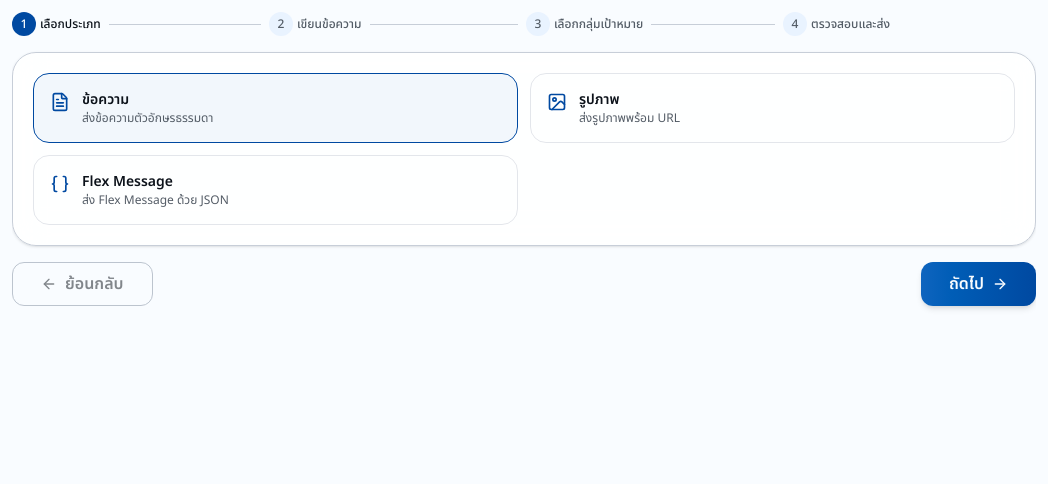
Test: BroadcastWizardClient ตัวช่วยสร้าง 4 ขั้น › ขั้นตรวจสอบแสดง preview + dry-run ก่อนสร้าง
Click the button "ถัดไป" at (978, 284), box [921,262,1036,306]
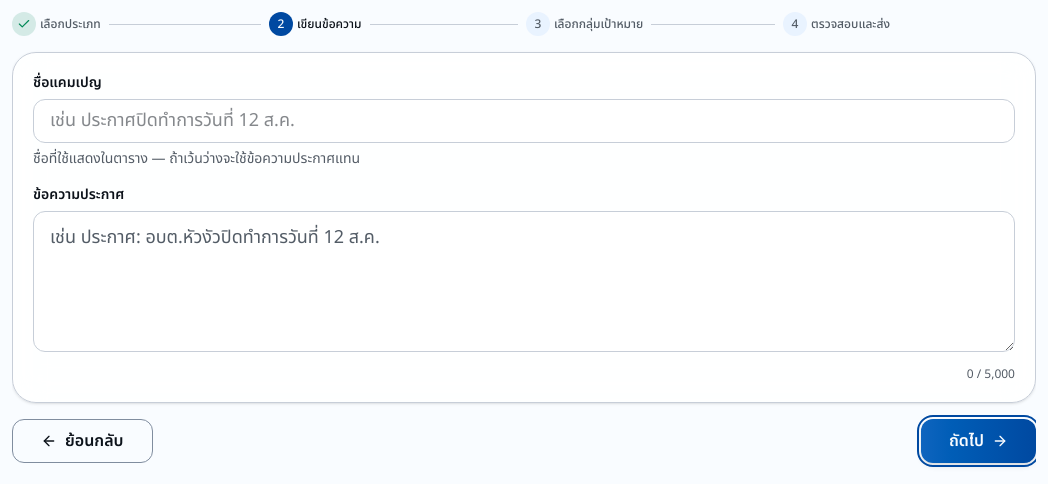
Type "น้ำประปาไม่ไหล" into the text box labelled "ข้อความประกาศ" at (524, 282), box [33,211,1015,352]
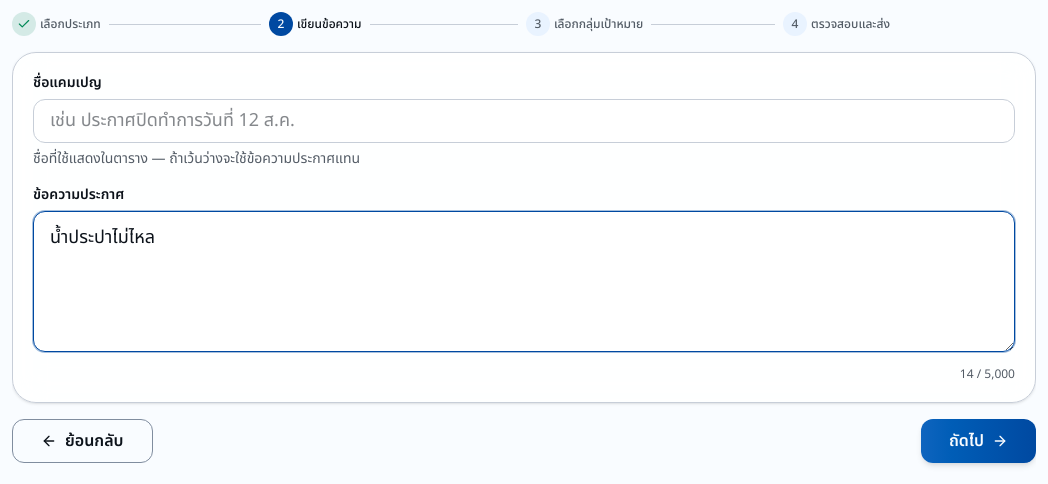
Click the button "ถัดไป" at (978, 441), box [921,419,1036,463]
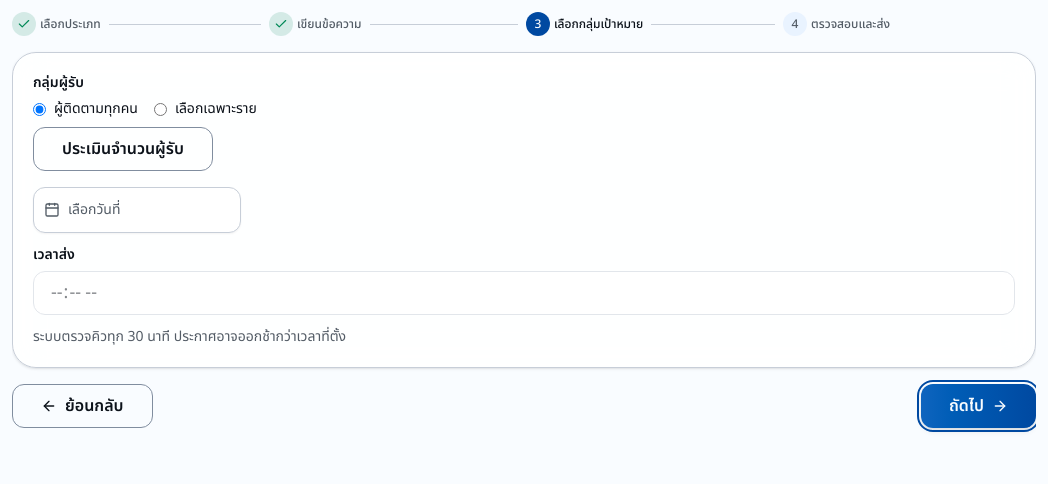
Click the button "ถัดไป" at (978, 406), box [921,384,1036,428]
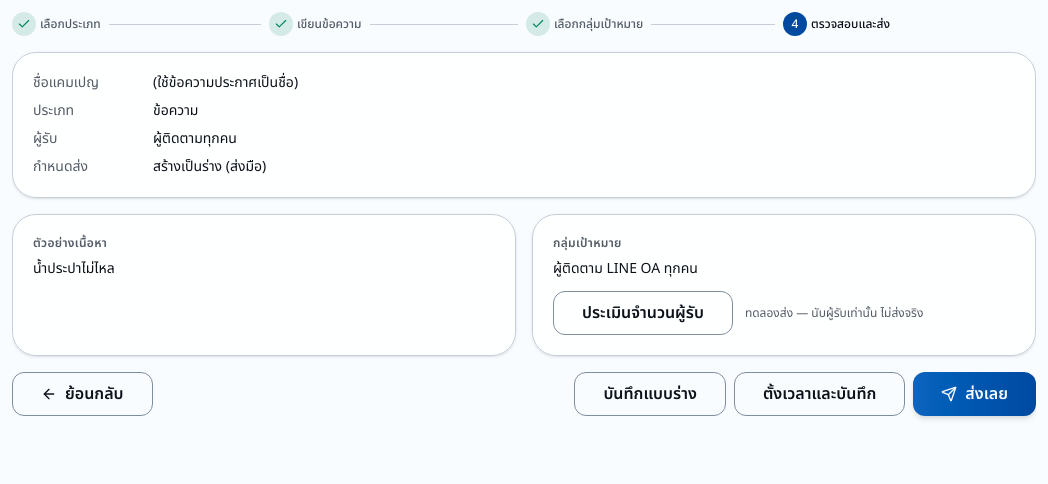
expect the text "น้ำประปาไม่ไหล" is shown: met, box [33,258,115,279]
expect the text "กลุ่มเป้าหมาย" is shown: met, box [553,234,622,252]
Click the button "ประเมินจำนวนผู้รับ" at (643, 313), box [553,291,733,335]
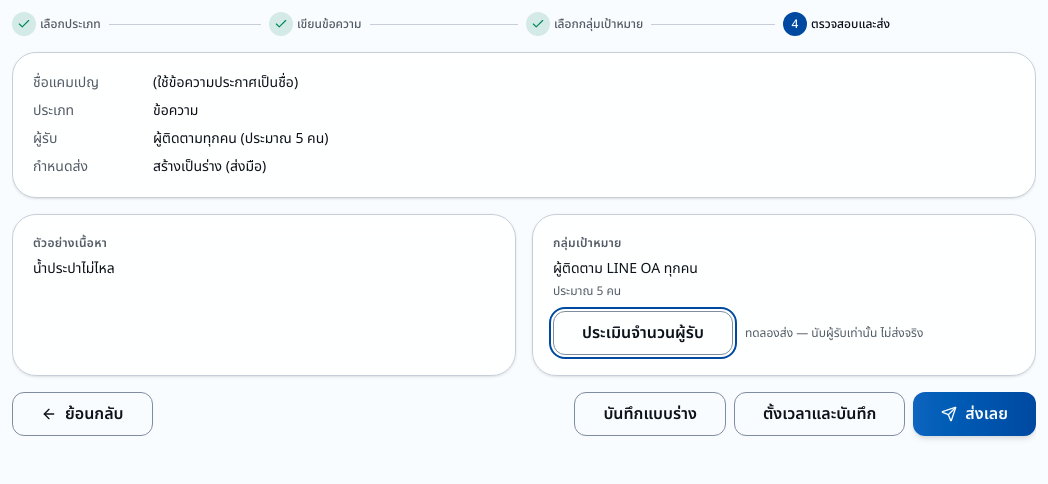
expect the text "ประมาณ 5 คน" is shown: met, box [553,282,621,300]
